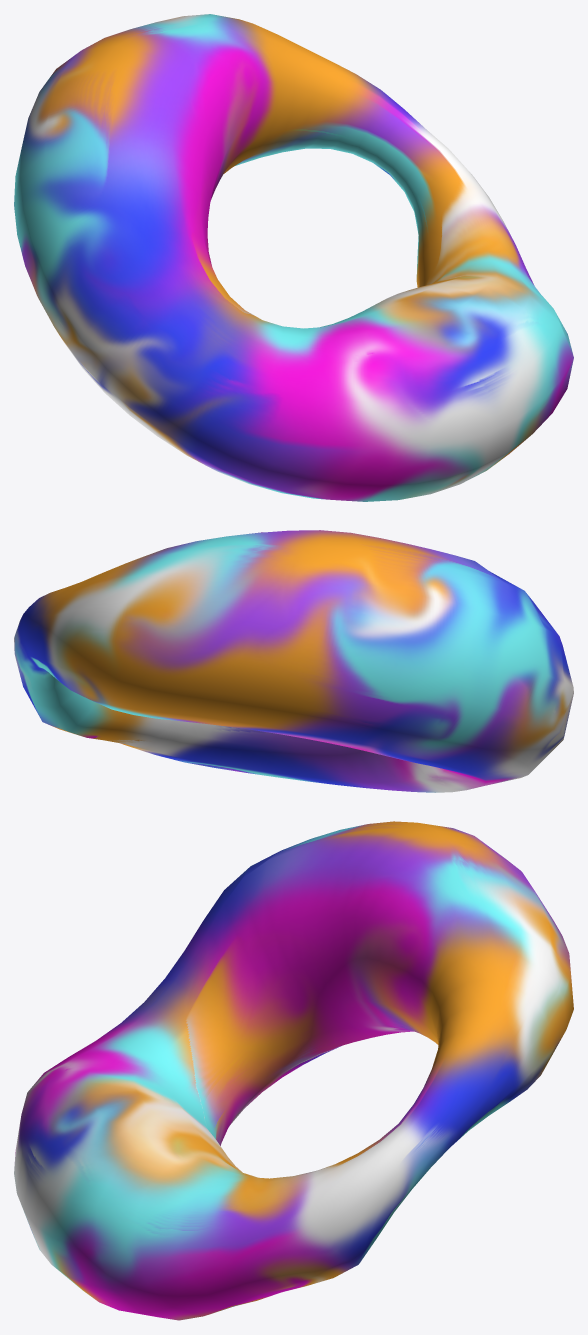
File: blob10.gltf
3 views of the same model, one above another, from view 1: azimuth 30°, elevation 25°; view 2: azimuth 150°, elevation 25°; view 3: azimuth 270°, elevation 25° (orthographic). The views are drawn at different scales.
Parts seen in each view (by area): view 1: Torus; view 2: Torus; view 3: Torus.
Boxes of the visible parts, x1,y1,x2,y2 form: Torus: [14, 14, 573, 501]; Torus: [14, 530, 573, 792]; Torus: [14, 821, 573, 1320].
Bounding box in the file's own units: 0.2702 × 0.1979 × 0.2678.
1 material, 1 textured.
